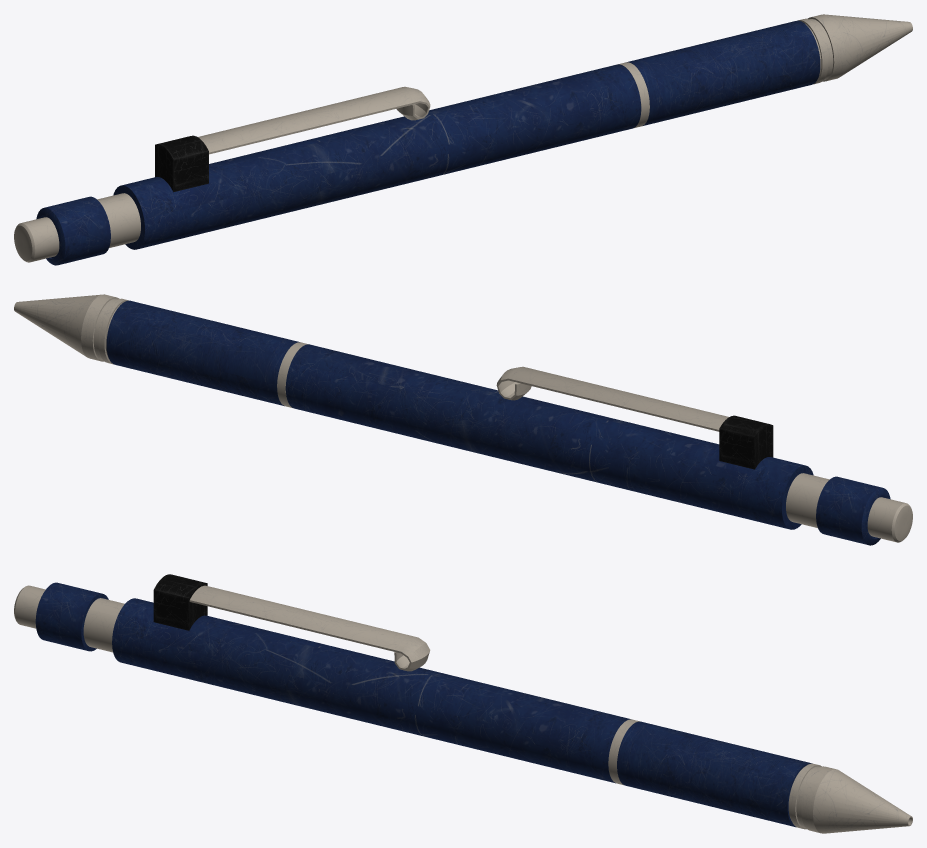
Rendered from pen.glb.
3 views of the same model, one above another, from view 1: azimuth 30°, elevation 25°; view 2: azimuth 150°, elevation 25°; view 3: azimuth 330°, elevation 25° (orthographic).
Visible parts, largest first — view 1: pen_0; view 2: pen_0; view 3: pen_0.
Part boxes in pixels (bbox=[...]): pen_0: bbox=[14, 14, 912, 265]; pen_0: bbox=[14, 294, 912, 545]; pen_0: bbox=[14, 574, 912, 833].
Size of the model in its own units: 0.6337 by 0.063 by 0.0407.
Materials: 9 (9 with a texture image).
